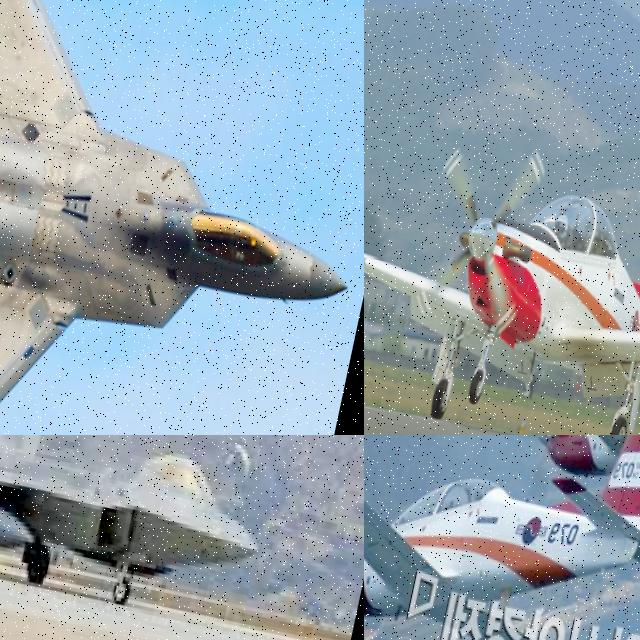F22: (0, 0, 364, 435), (0, 435, 288, 630)
KT-1: (364, 96, 640, 435), (364, 435, 640, 640), (474, 435, 640, 534)
